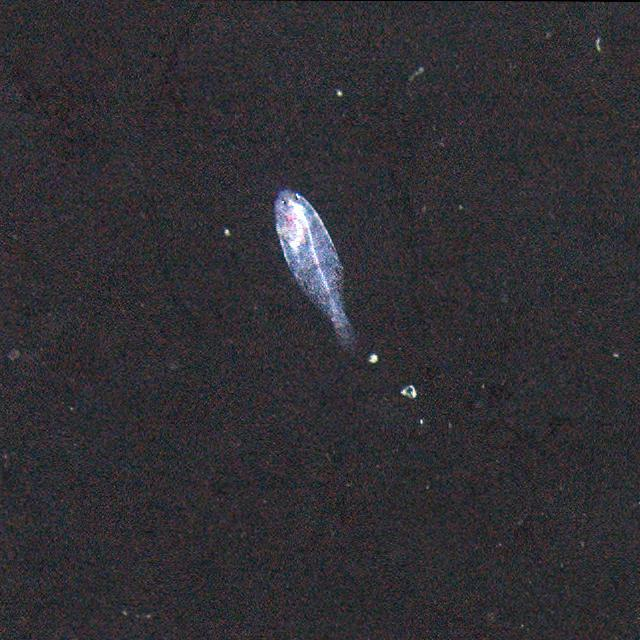flatfish: (274, 186, 359, 356)
